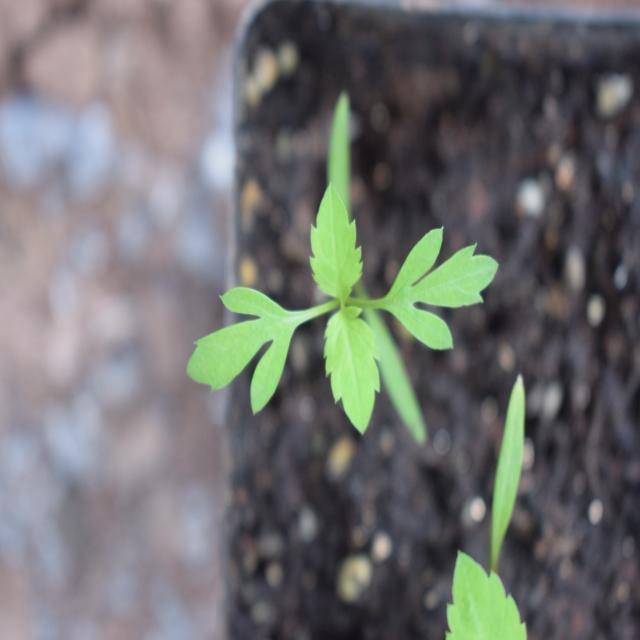Bidens pilosa: (154, 146, 497, 472)
